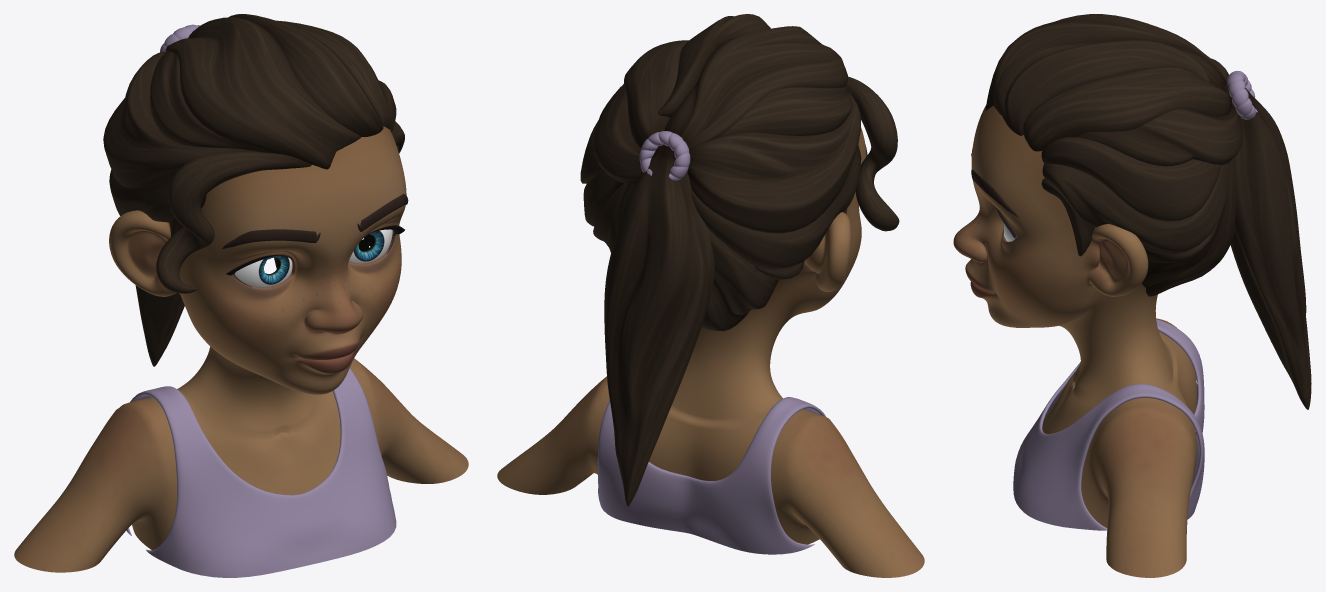
Rendered from head.glb.
The picture shows the model from 3 angles, left to right: view 1: azimuth 30°, elevation 25°; view 2: azimuth 150°, elevation 25°; view 3: azimuth 270°, elevation 25°; orthographic projection. The views are drawn at different scales.
Visible parts, largest first — view 1: Face, Hair, Bust, Top, HairSweep, HairTail, Brows, Eye.R, Eye.L; view 2: Hair, Bust, HairTail, Top, Face, HairSweep, HairTie; view 3: Hair, Face, Bust, HairTail, Top, HairTie.
Part boxes in pixels (x1,y1,x2,y2): Face: [109, 126, 406, 432]; Hair: [103, 14, 404, 268]; Bust: [14, 358, 468, 572]; Top: [126, 367, 396, 577]; HairSweep: [156, 151, 311, 293]; HairTail: [135, 285, 184, 366]; Brows: [222, 194, 408, 248]; Eye.R: [234, 255, 292, 287]; Eye.L: [349, 229, 392, 263]; Hair: [580, 14, 861, 331]; Bust: [497, 376, 924, 577]; HairTail: [604, 144, 714, 506]; Top: [597, 397, 826, 554]; Face: [670, 127, 866, 423]; HairSweep: [846, 76, 899, 231]; HairTie: [639, 131, 690, 180]; Hair: [986, 14, 1242, 296]; Face: [953, 105, 1174, 397]; Bust: [1042, 318, 1196, 577]; HairTail: [1223, 85, 1311, 409]; Top: [1013, 319, 1204, 530]; HairTie: [1227, 70, 1257, 119].
Size of the model in its own units: 0.4373 by 0.4692 by 0.3377.
8 materials, 4 textured.
